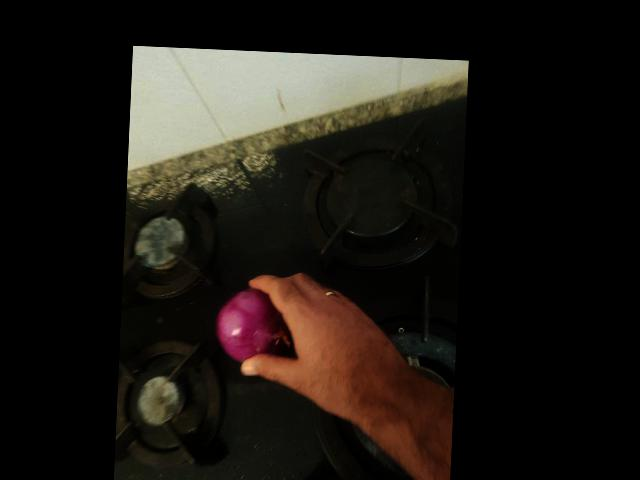onion: (213, 289, 291, 370)
